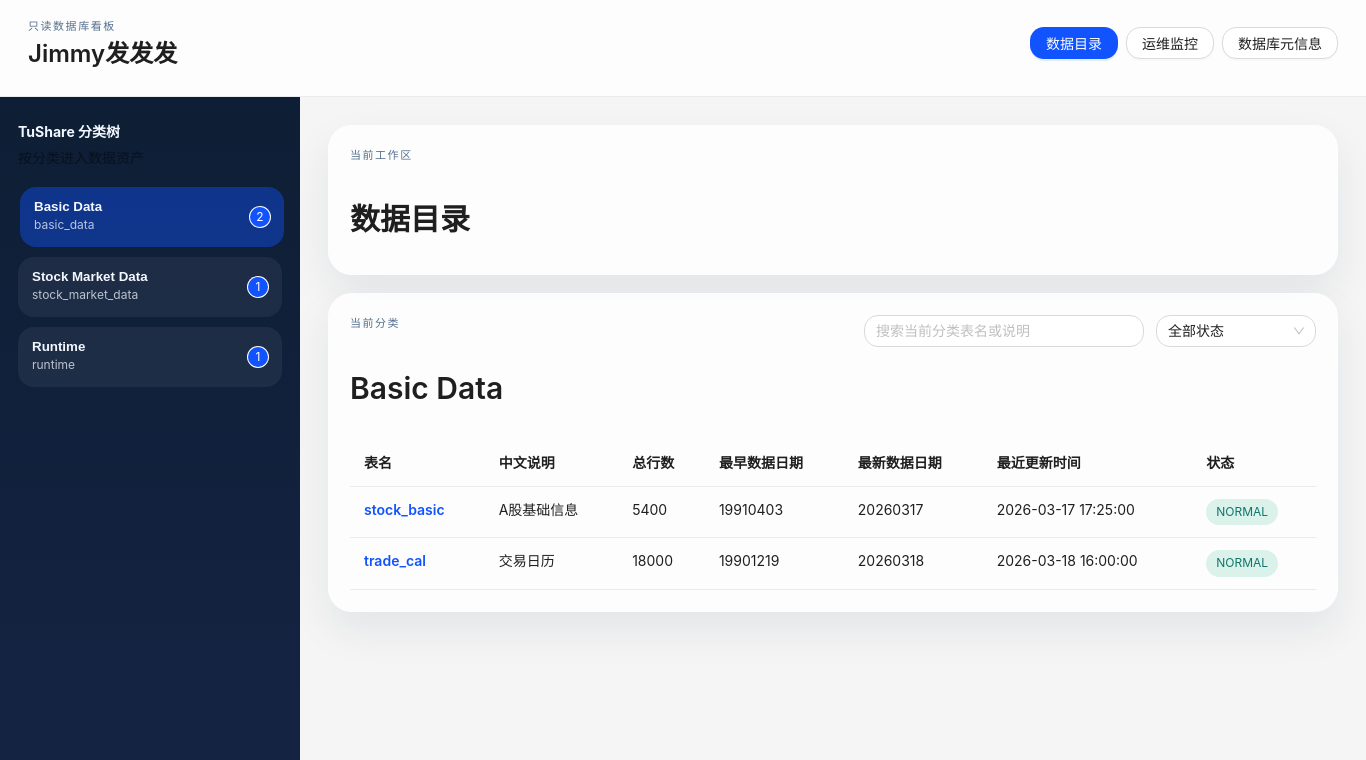
Scenario: data_explorer app shell › shows a truncation notice when the full-table mode is capped at the first 10000 rows
The width and height of the screenshot is (1366, 760).
Click the cell "A股基础信息".
click(551, 512)  # box x1=485 y1=486 x2=618 y2=538
(page scrolled)
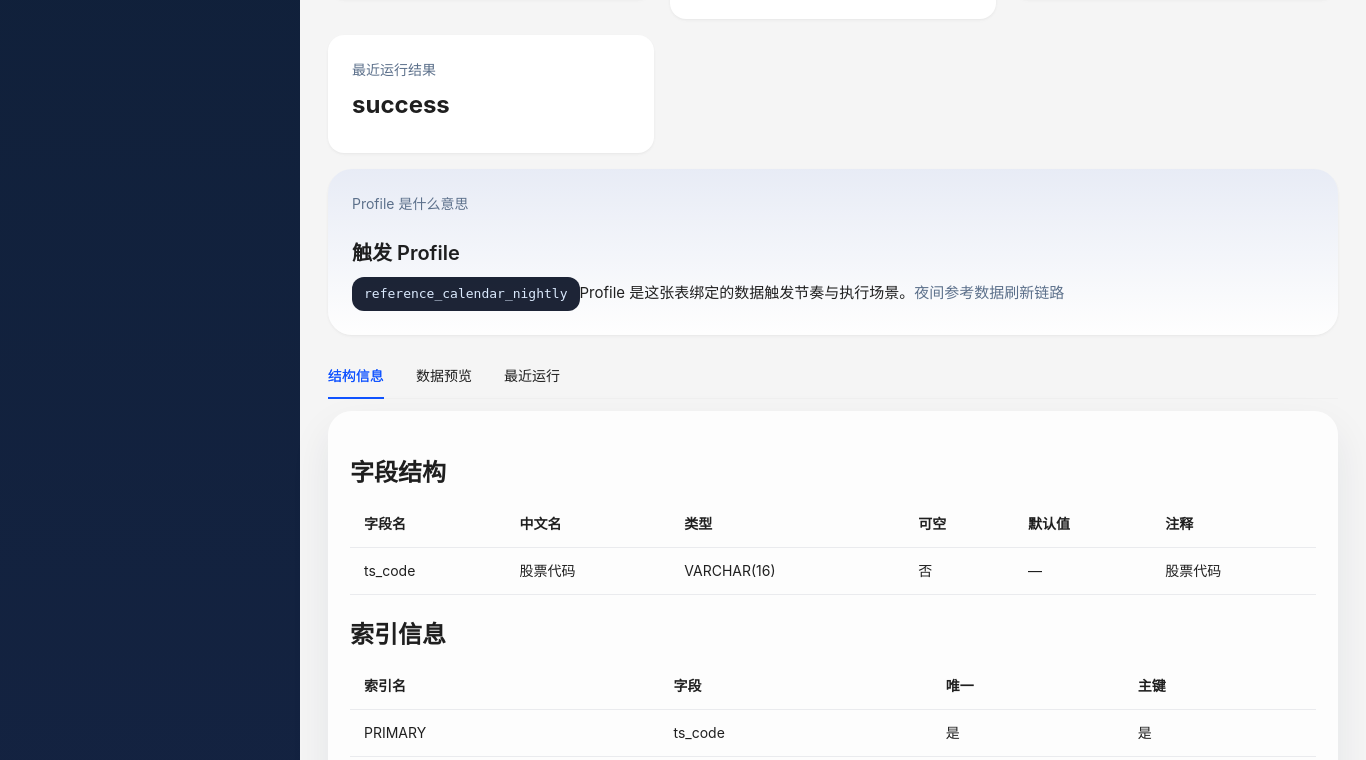
Click the tab "数据预览".
click(444, 376)  # box x1=416 y1=365 x2=472 y2=387
(page scrolled)
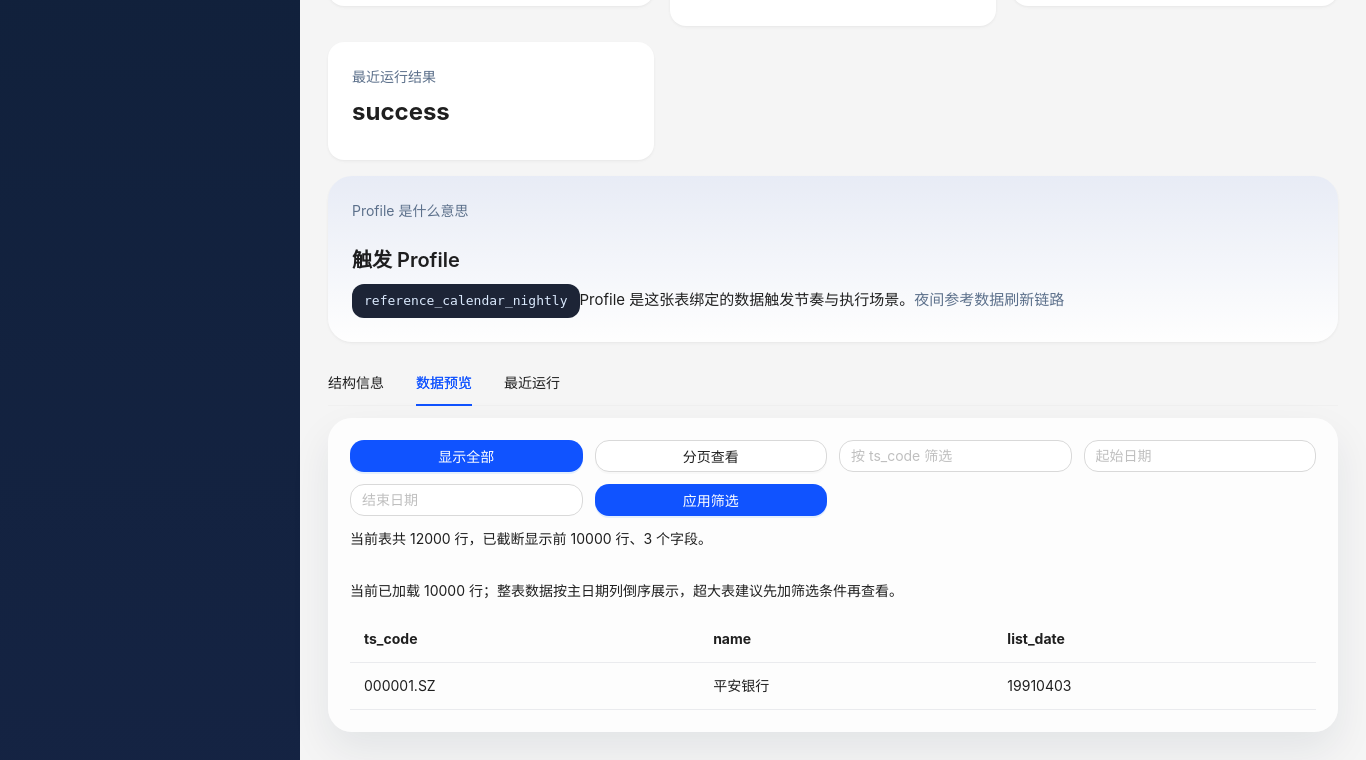
Check: the text "当前表共 12000 行，已截断显示前 10000 行、3 个字段。" is shown, box x1=350 y1=530 x2=712 y2=547
